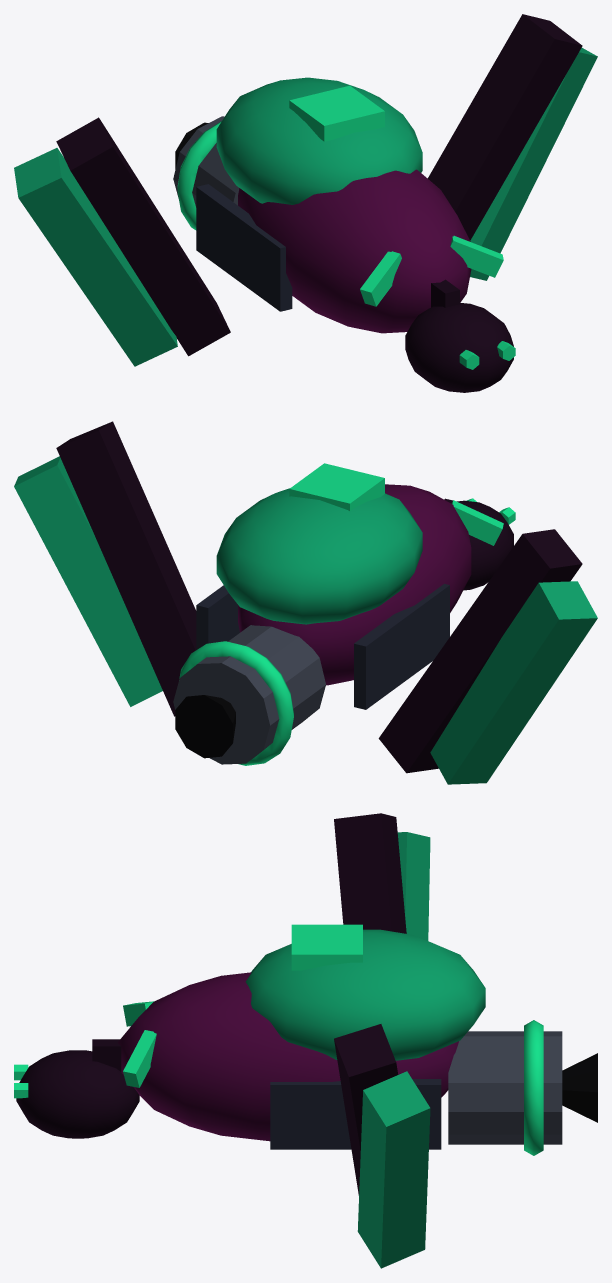
Rendered from Enemy_fast.fbx.
The picture shows the model from 3 angles, top to bottom: view 1: azimuth 30°, elevation 25°; view 2: azimuth 150°, elevation 25°; view 3: azimuth 270°, elevation 25°; orthographic projection.
Parts seen in each view (by area): view 1: Enemy_fast; view 2: Enemy_fast; view 3: Enemy_fast.
Part boxes in pixels (bbox=[...]): Enemy_fast: bbox=[14, 14, 597, 392]; Enemy_fast: bbox=[14, 421, 597, 784]; Enemy_fast: bbox=[14, 813, 597, 1268].
Bounding box in the file's own units: 0.9567 × 0.4071 × 0.82.
